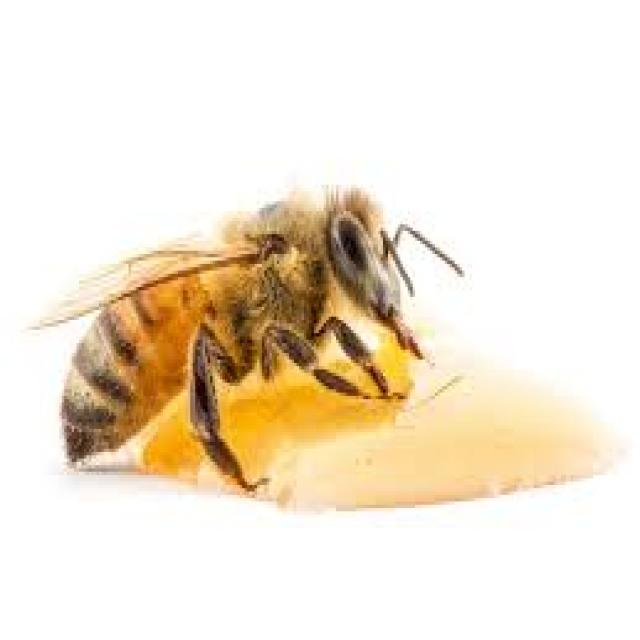Bees: (27, 185, 467, 494)
